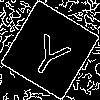Y: (25, 24, 79, 81)
